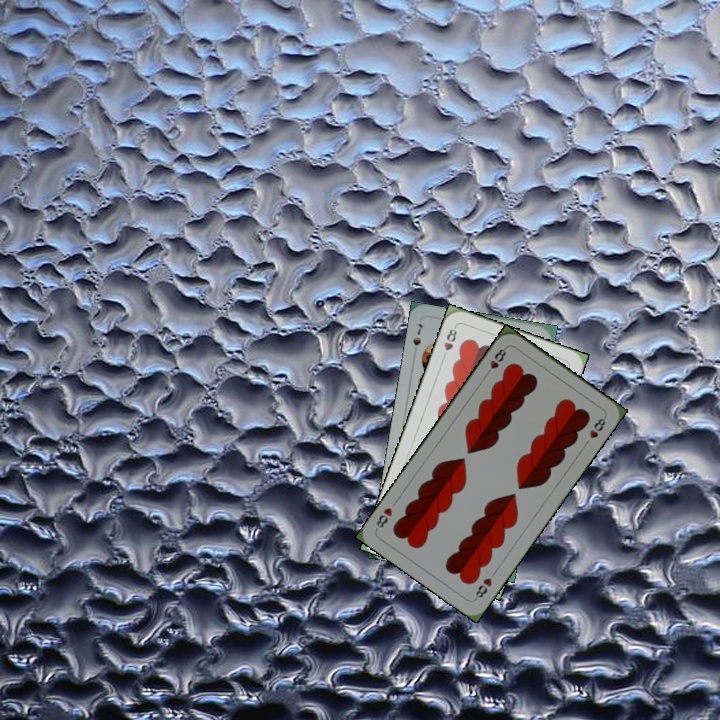H8: (481, 343, 509, 379), (439, 322, 460, 361), (470, 574, 495, 602)
S7: (409, 319, 425, 348)
